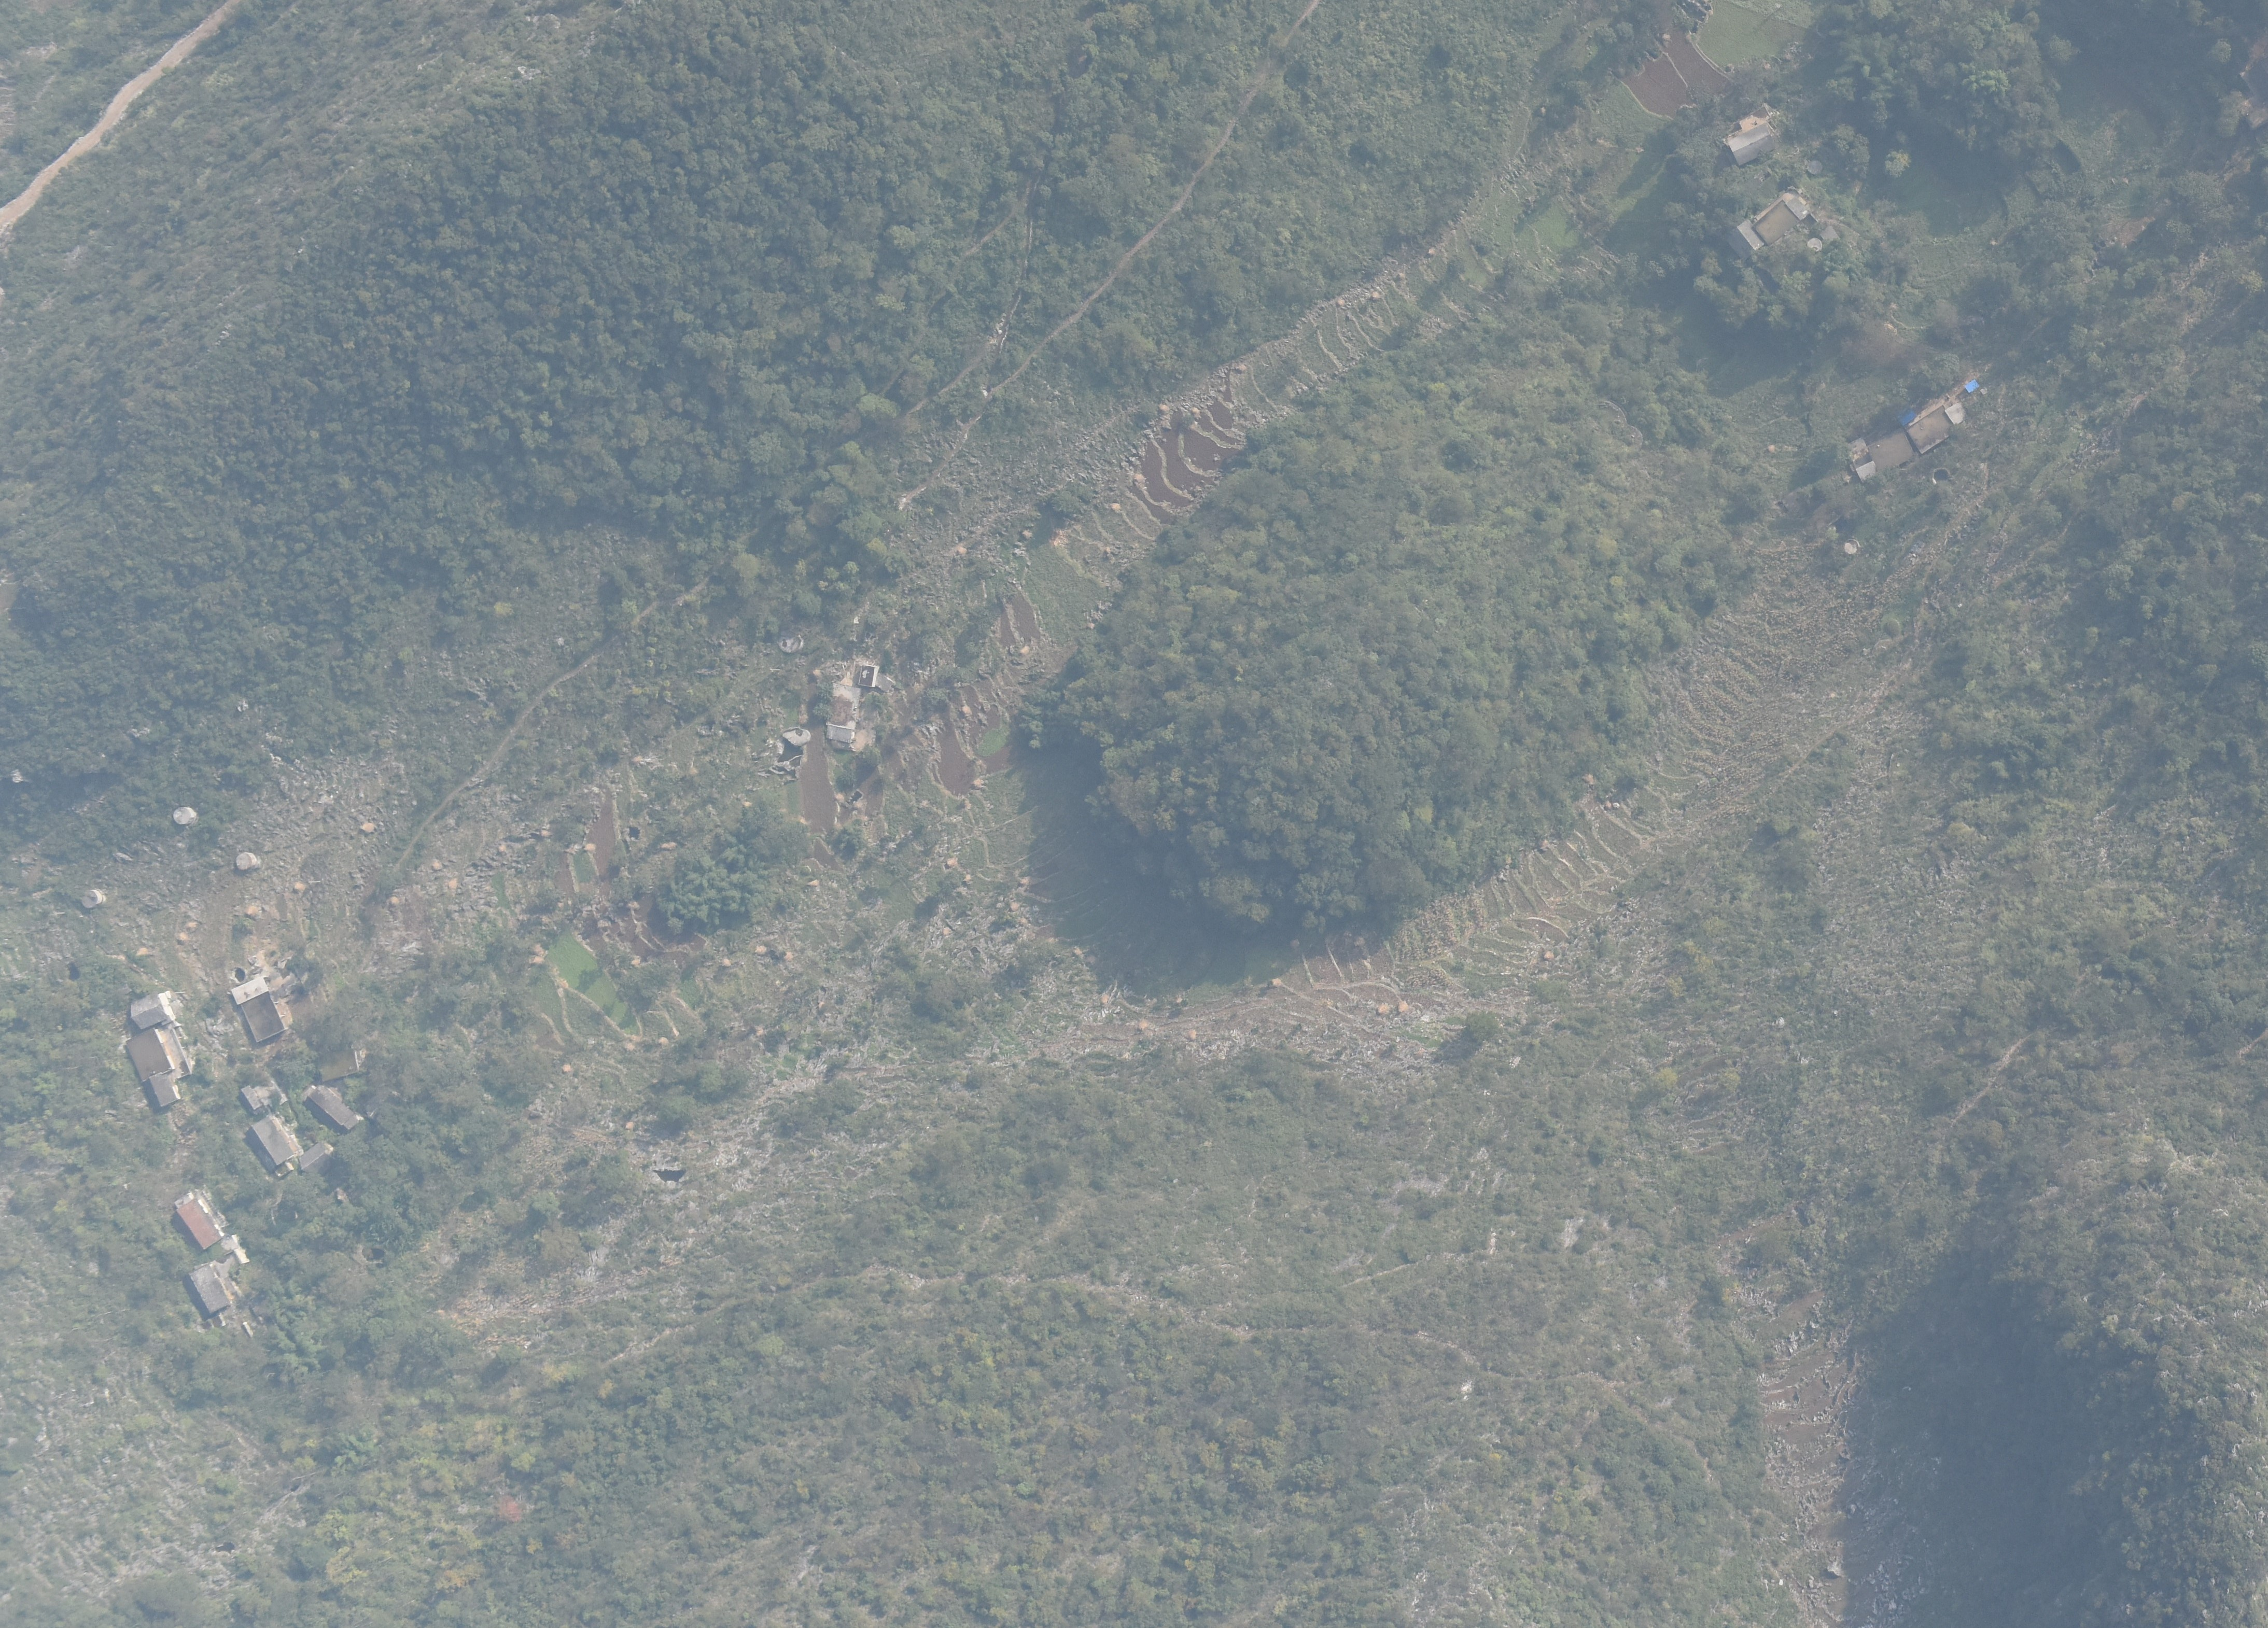building: (172, 1198, 221, 1251), (305, 1084, 359, 1132), (126, 1027, 174, 1082), (183, 1262, 232, 1313), (1905, 404, 1953, 456), (1727, 121, 1779, 169), (240, 991, 286, 1043), (1752, 197, 1801, 245), (250, 1115, 298, 1163), (1865, 428, 1915, 471), (1724, 218, 1769, 262), (823, 678, 860, 728), (315, 1048, 360, 1081), (129, 994, 166, 1030), (230, 974, 270, 1006), (149, 1073, 182, 1106), (300, 1142, 329, 1174), (825, 722, 859, 748), (207, 1234, 237, 1262), (238, 1086, 261, 1115), (1845, 437, 1868, 464), (1786, 196, 1812, 219), (1856, 460, 1879, 485), (1943, 404, 1971, 424), (858, 663, 878, 687), (875, 671, 895, 694), (1819, 224, 1841, 245), (232, 1246, 249, 1264), (173, 1194, 193, 1208), (275, 1161, 292, 1176)
prefabricated-house: (1897, 408, 1915, 426), (1964, 378, 1982, 395)
well: (778, 633, 806, 658), (79, 888, 104, 909), (173, 807, 198, 826), (234, 851, 258, 869), (1843, 539, 1862, 555), (1808, 157, 1824, 176), (1808, 236, 1824, 252)
